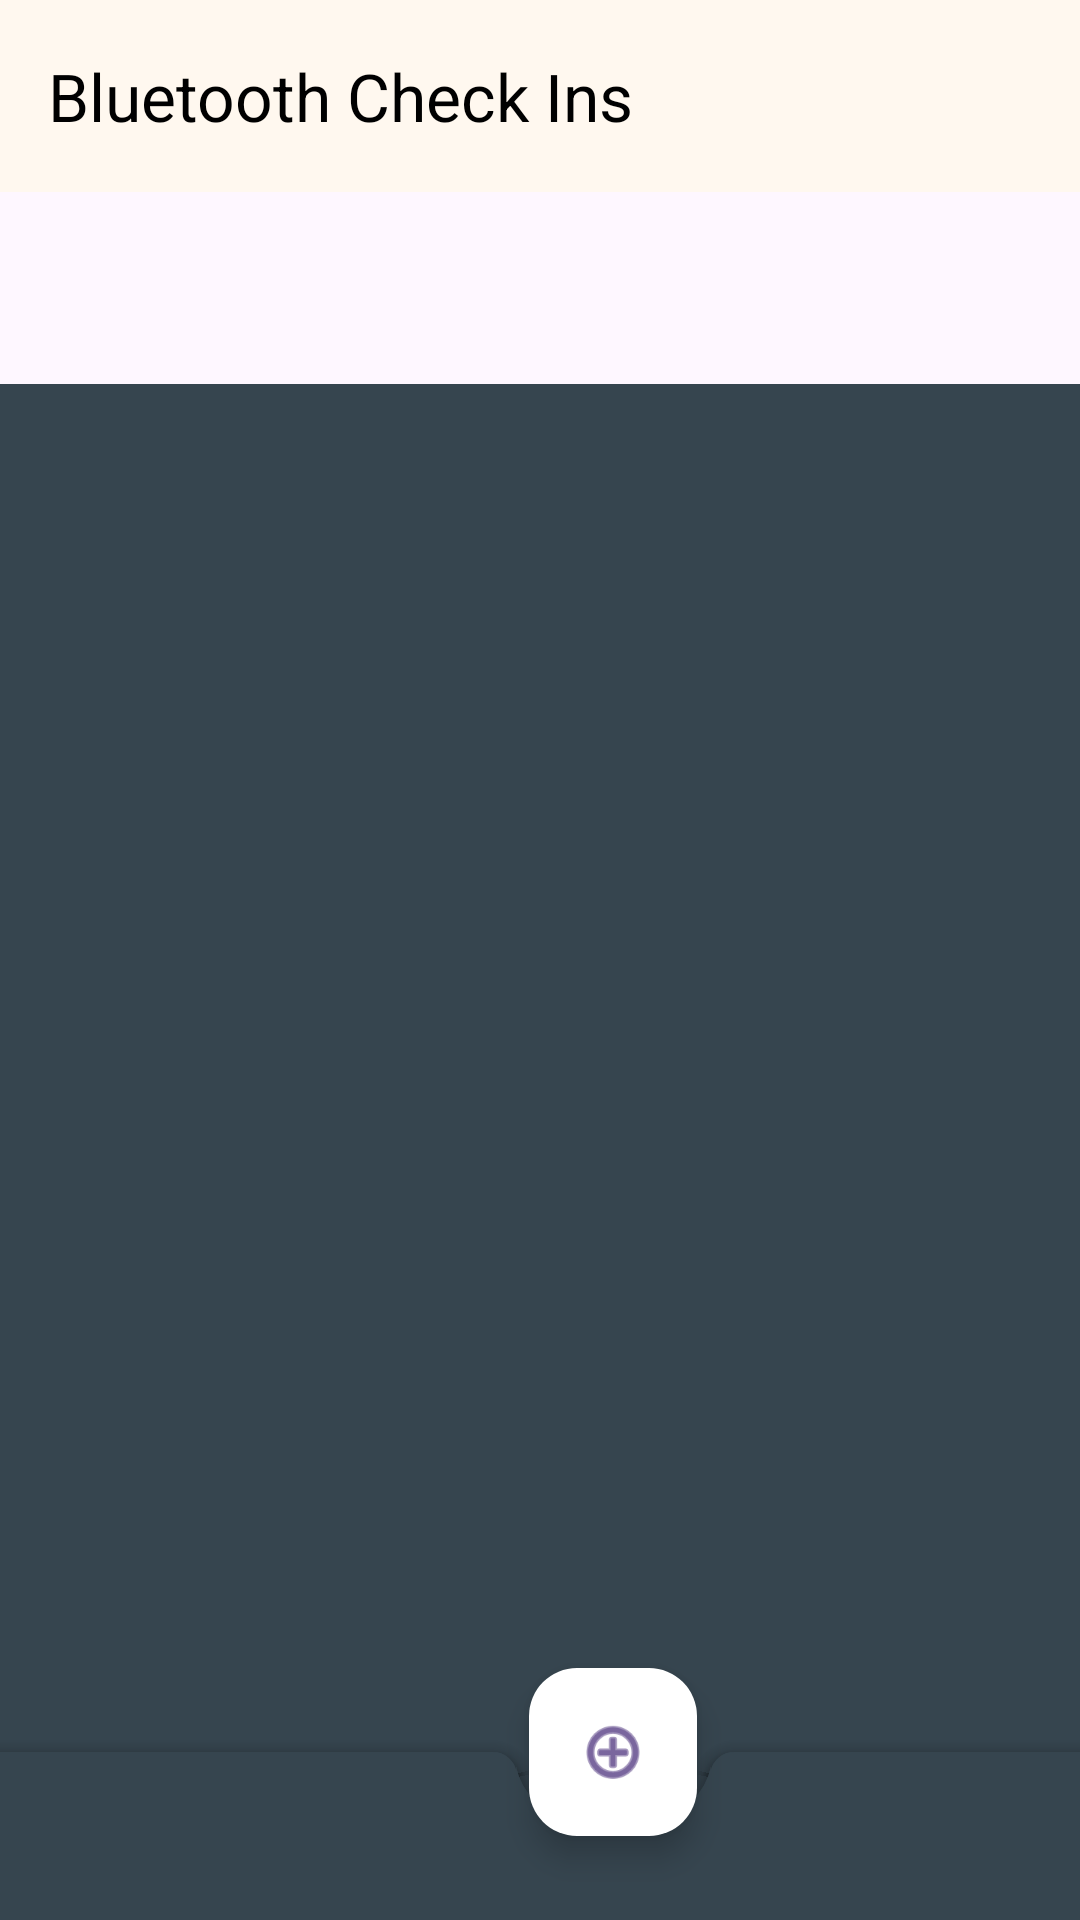

Point at icon controls on the screen. Image size 1080*1920, points as (x,y).
add: (613,1752)
